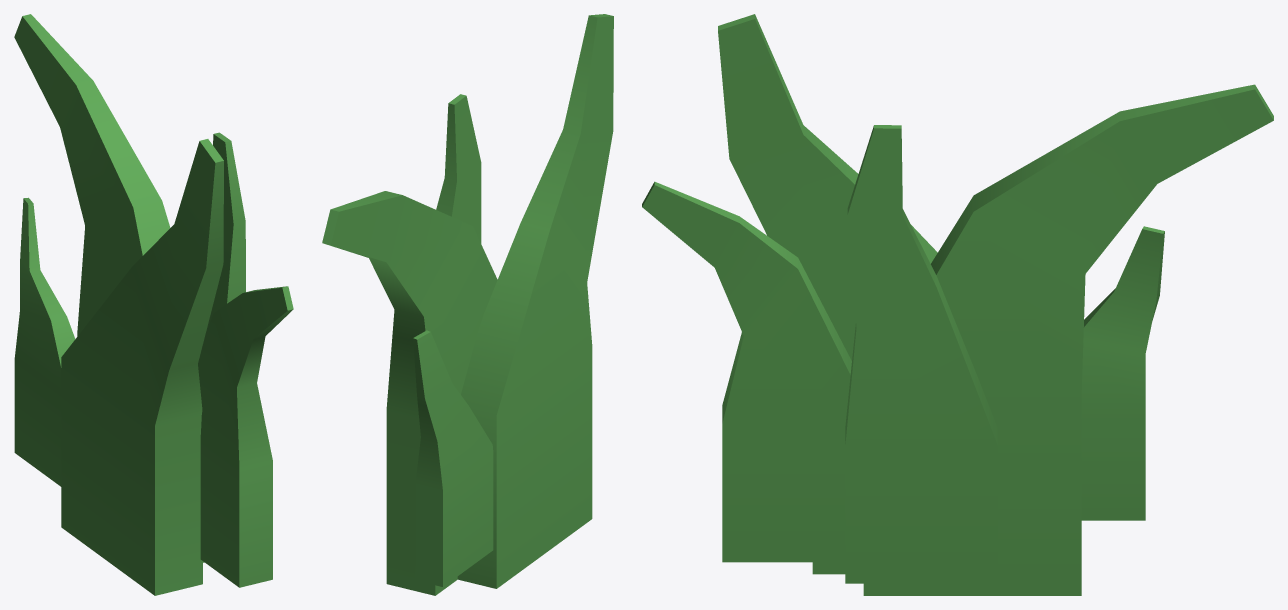
The model's file is Grass.fbx.
3 renders of one model, left to right at view 1: azimuth 30°, elevation 25°; view 2: azimuth 150°, elevation 25°; view 3: azimuth 270°, elevation 25°, orthographic. The views are drawn at different scales.
Parts seen in each view (by area): view 1: Grass; view 2: Grass; view 3: Grass.
Part boxes in pixels (x1=…): Grass: x1=14, y1=14, x2=293, y2=595; Grass: x1=322, y1=14, x2=613, y2=595; Grass: x1=642, y1=14, x2=1273, y2=595.
Bounding box in the file's own units: 28.71 × 110 × 116.
